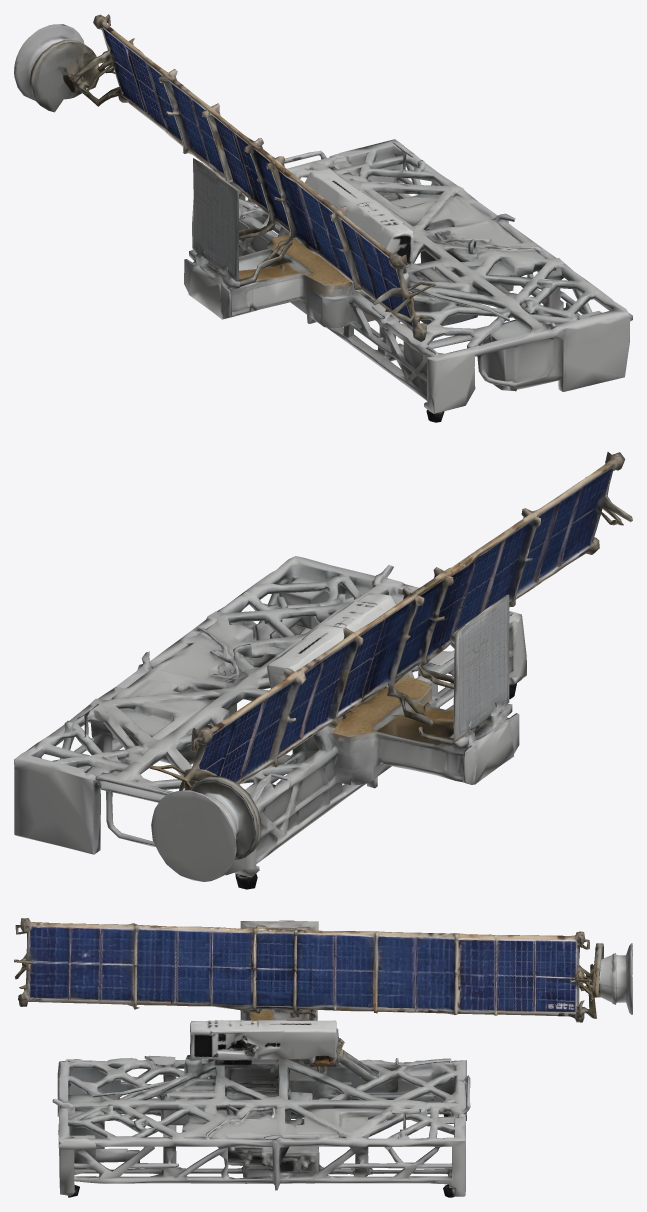
The model's file is irosa.glb.
The picture shows the model from 3 angles, top to bottom: view 1: azimuth 30°, elevation 25°; view 2: azimuth 150°, elevation 25°; view 3: azimuth 270°, elevation 25°; orthographic projection. The views are drawn at different scales.
Visible parts, largest first — view 1: tripo_node_1a682889-8c35-4f32-bc26-3823a7201921; view 2: tripo_node_1a682889-8c35-4f32-bc26-3823a7201921; view 3: tripo_node_1a682889-8c35-4f32-bc26-3823a7201921.
Boxes of the visible parts, <box> form: tripo_node_1a682889-8c35-4f32-bc26-3823a7201921: <box>14,14,632,422</box>; tripo_node_1a682889-8c35-4f32-bc26-3823a7201921: <box>14,452,632,889</box>; tripo_node_1a682889-8c35-4f32-bc26-3823a7201921: <box>14,918,632,1197</box>.
Size of the model in its own units: 0.4873 by 0.3107 by 1.
Materials: 1 (1 with a texture image).
